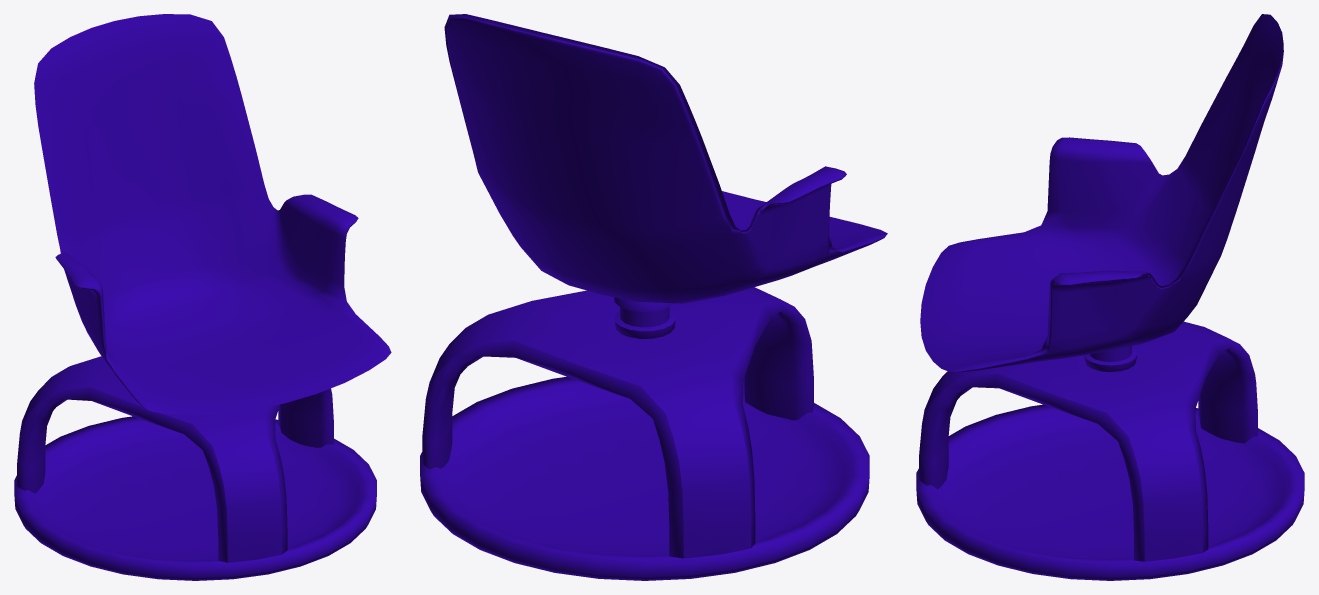
The model's file is sillatest.fbx.
3 renders of one model, left to right at view 1: azimuth 30°, elevation 25°; view 2: azimuth 150°, elevation 25°; view 3: azimuth 270°, elevation 25°, orthographic. The views are drawn at different scales.
Visible parts, largest first — view 1: polySurface4; view 2: polySurface4; view 3: polySurface4.
Part boxes in pixels (box(x1,y1,x2,y2)): polySurface4: box(14, 14, 391, 580); polySurface4: box(420, 14, 887, 580); polySurface4: box(916, 14, 1304, 580).
Size of the model in its own units: 0.5749 by 0.7466 by 0.5718.
